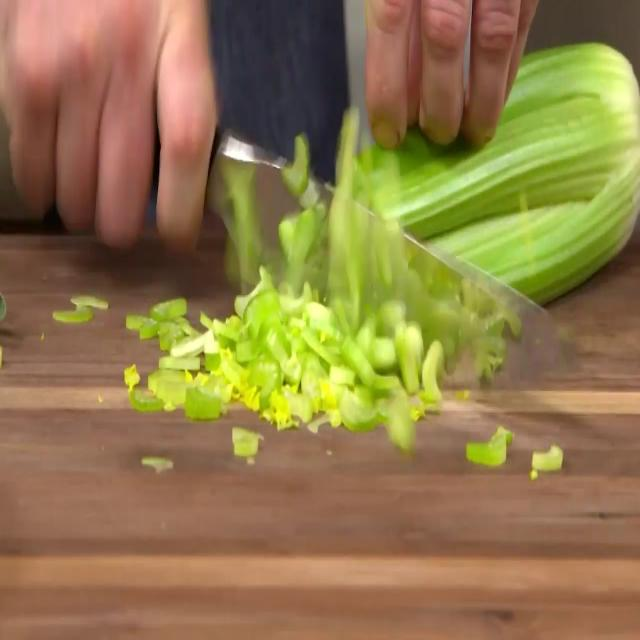Knife_Handle: (0, 0, 575, 385)
